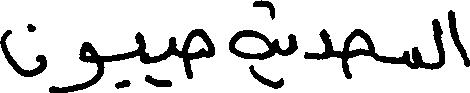X: (229, 0, 273, 92), (51, 37, 104, 92), (0, 19, 45, 81), (184, 24, 214, 83), (343, 24, 373, 83), (449, 5, 469, 71), (306, 24, 330, 64), (398, 42, 421, 73), (433, 14, 443, 73), (135, 27, 145, 85), (169, 32, 176, 91), (289, 29, 296, 59)
